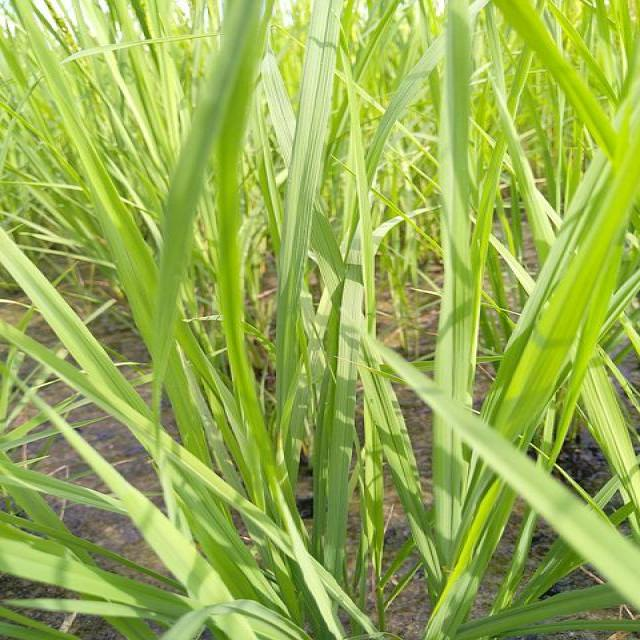Rice: (480, 150, 640, 443), (428, 0, 480, 640), (277, 0, 353, 398), (0, 226, 159, 410), (124, 414, 266, 600), (212, 0, 266, 474), (22, 0, 134, 226), (481, 447, 640, 605), (498, 0, 640, 144), (161, 99, 215, 414), (371, 54, 425, 183), (314, 398, 351, 583), (347, 315, 429, 398), (383, 399, 430, 540), (356, 400, 384, 577)
